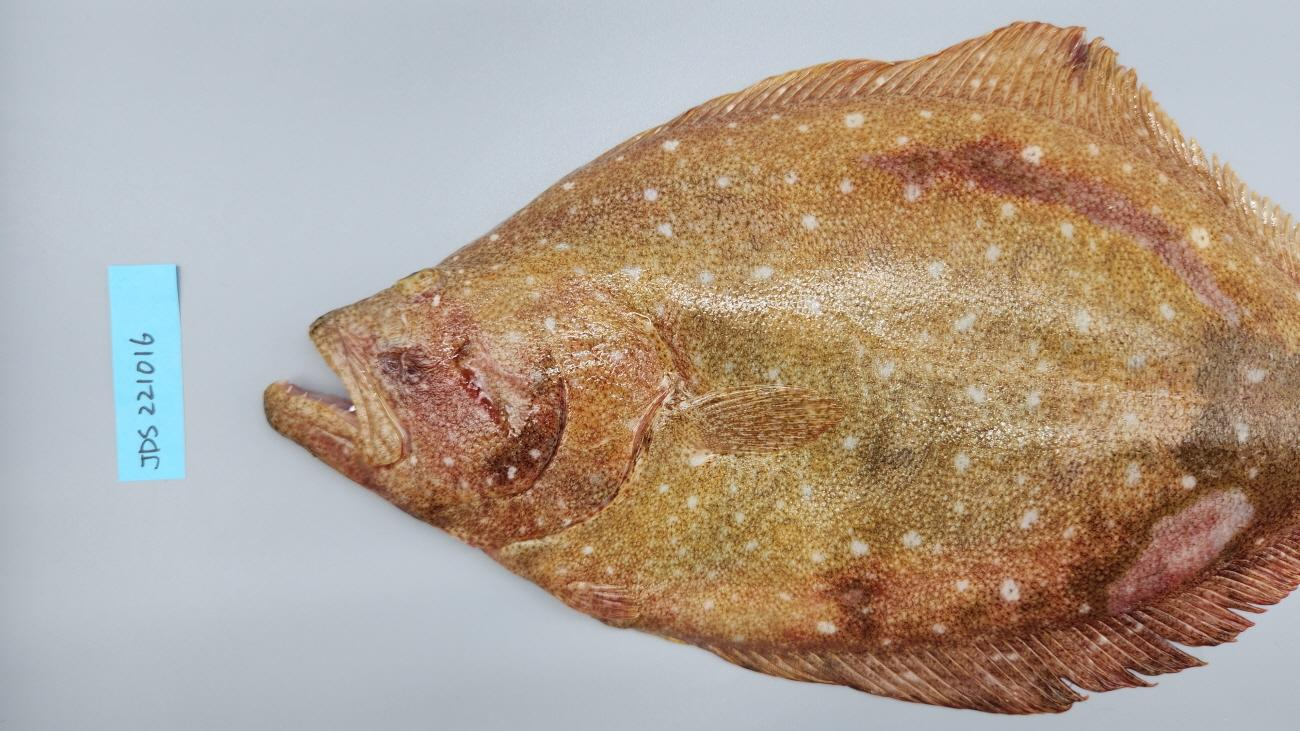POOUN: (260, 20, 1300, 720)
